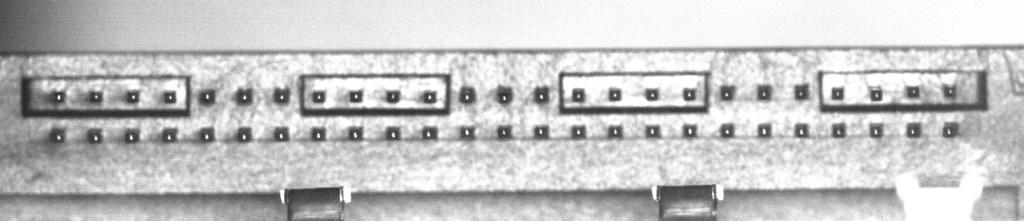pin_ok: (496, 86, 513, 104), (459, 86, 476, 103), (236, 87, 253, 104), (533, 86, 550, 103), (50, 126, 67, 143), (198, 89, 216, 105), (942, 122, 959, 138), (273, 87, 290, 103), (756, 84, 772, 100), (906, 122, 922, 138), (87, 128, 103, 144), (459, 125, 476, 140), (794, 122, 810, 137), (794, 84, 809, 100), (757, 122, 773, 137), (720, 85, 736, 100), (347, 125, 363, 140), (236, 127, 252, 142), (273, 126, 289, 141), (161, 127, 177, 142), (124, 128, 140, 143), (532, 125, 549, 139), (571, 87, 586, 102), (831, 123, 846, 138), (199, 127, 214, 142), (869, 123, 884, 138), (496, 125, 512, 139), (385, 126, 401, 140), (422, 126, 438, 140), (50, 89, 65, 103), (311, 89, 326, 103), (571, 124, 586, 138), (607, 87, 622, 101), (645, 124, 660, 138), (608, 124, 623, 138), (311, 127, 326, 141), (683, 123, 697, 138), (682, 87, 697, 101), (720, 123, 735, 137), (422, 89, 437, 103), (349, 89, 363, 103), (386, 89, 400, 103), (163, 90, 177, 104), (126, 89, 140, 103), (906, 85, 920, 99), (942, 84, 956, 98), (645, 88, 659, 101), (831, 86, 844, 100), (870, 87, 883, 101), (88, 90, 102, 103)
